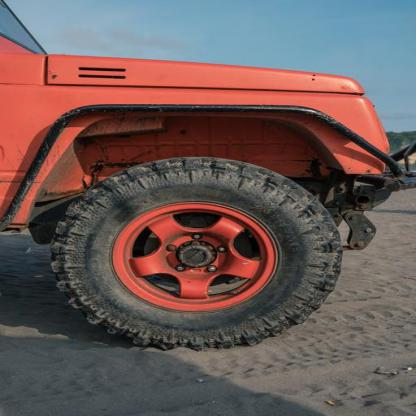Tire: (44, 155, 345, 352)
